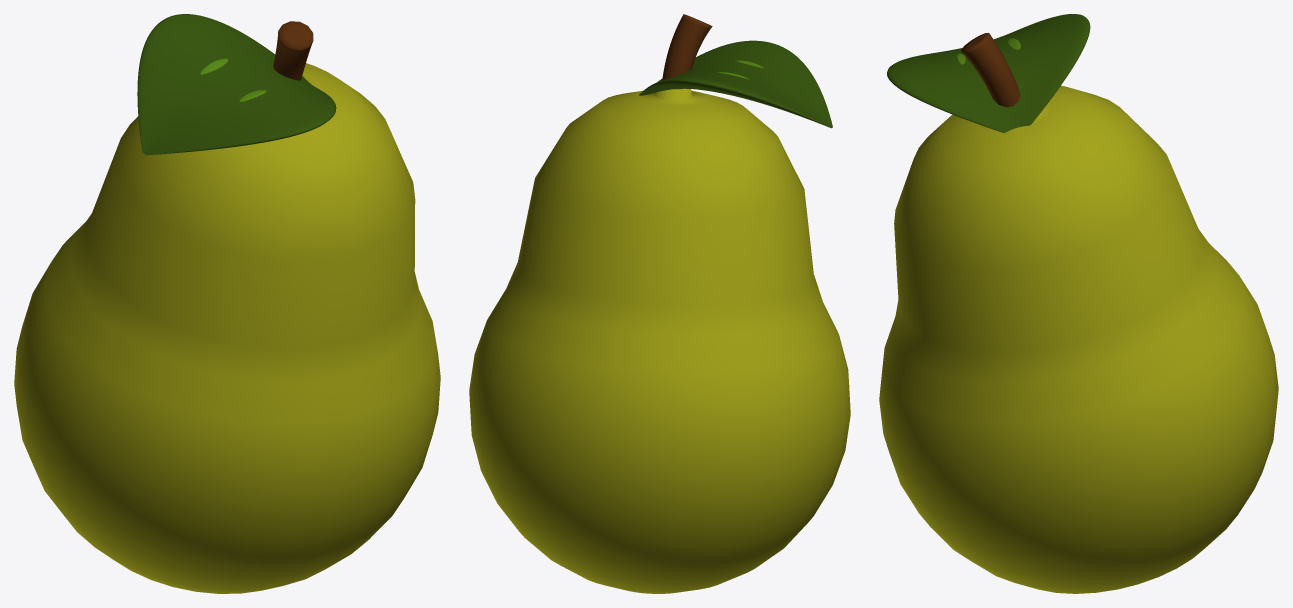
The model's file is Pear.glb.
3 renders of one model, left to right at view 1: azimuth 30°, elevation 25°; view 2: azimuth 150°, elevation 25°; view 3: azimuth 270°, elevation 25°, orthographic. The views are drawn at different scales.
Visible parts, largest first — view 1: Sphere.020, NurbsPath.018, NurbsPath.016; view 2: Sphere.020, NurbsPath.018, NurbsPath.016; view 3: Sphere.020, NurbsPath.018, NurbsPath.016.
Boxes of the visible parts, left/top/right/bottom form: Sphere.020: left=14, top=63, right=440, bottom=593; NurbsPath.018: left=137, top=14, right=336, bottom=155; NurbsPath.016: left=273, top=21, right=313, bottom=80; Sphere.020: left=469, top=88, right=850, bottom=593; NurbsPath.018: left=639, top=40, right=832, bottom=128; NurbsPath.016: left=662, top=14, right=712, bottom=88; Sphere.020: left=879, top=85, right=1278, bottom=593; NurbsPath.018: left=887, top=14, right=1090, bottom=132; NurbsPath.016: left=961, top=33, right=1020, bottom=107.
Bounding box in the file's own units: 6.15 × 9.31 × 6.16.
